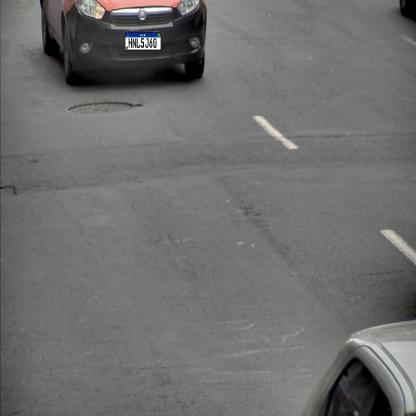PlacaM: (125, 32, 161, 51)
